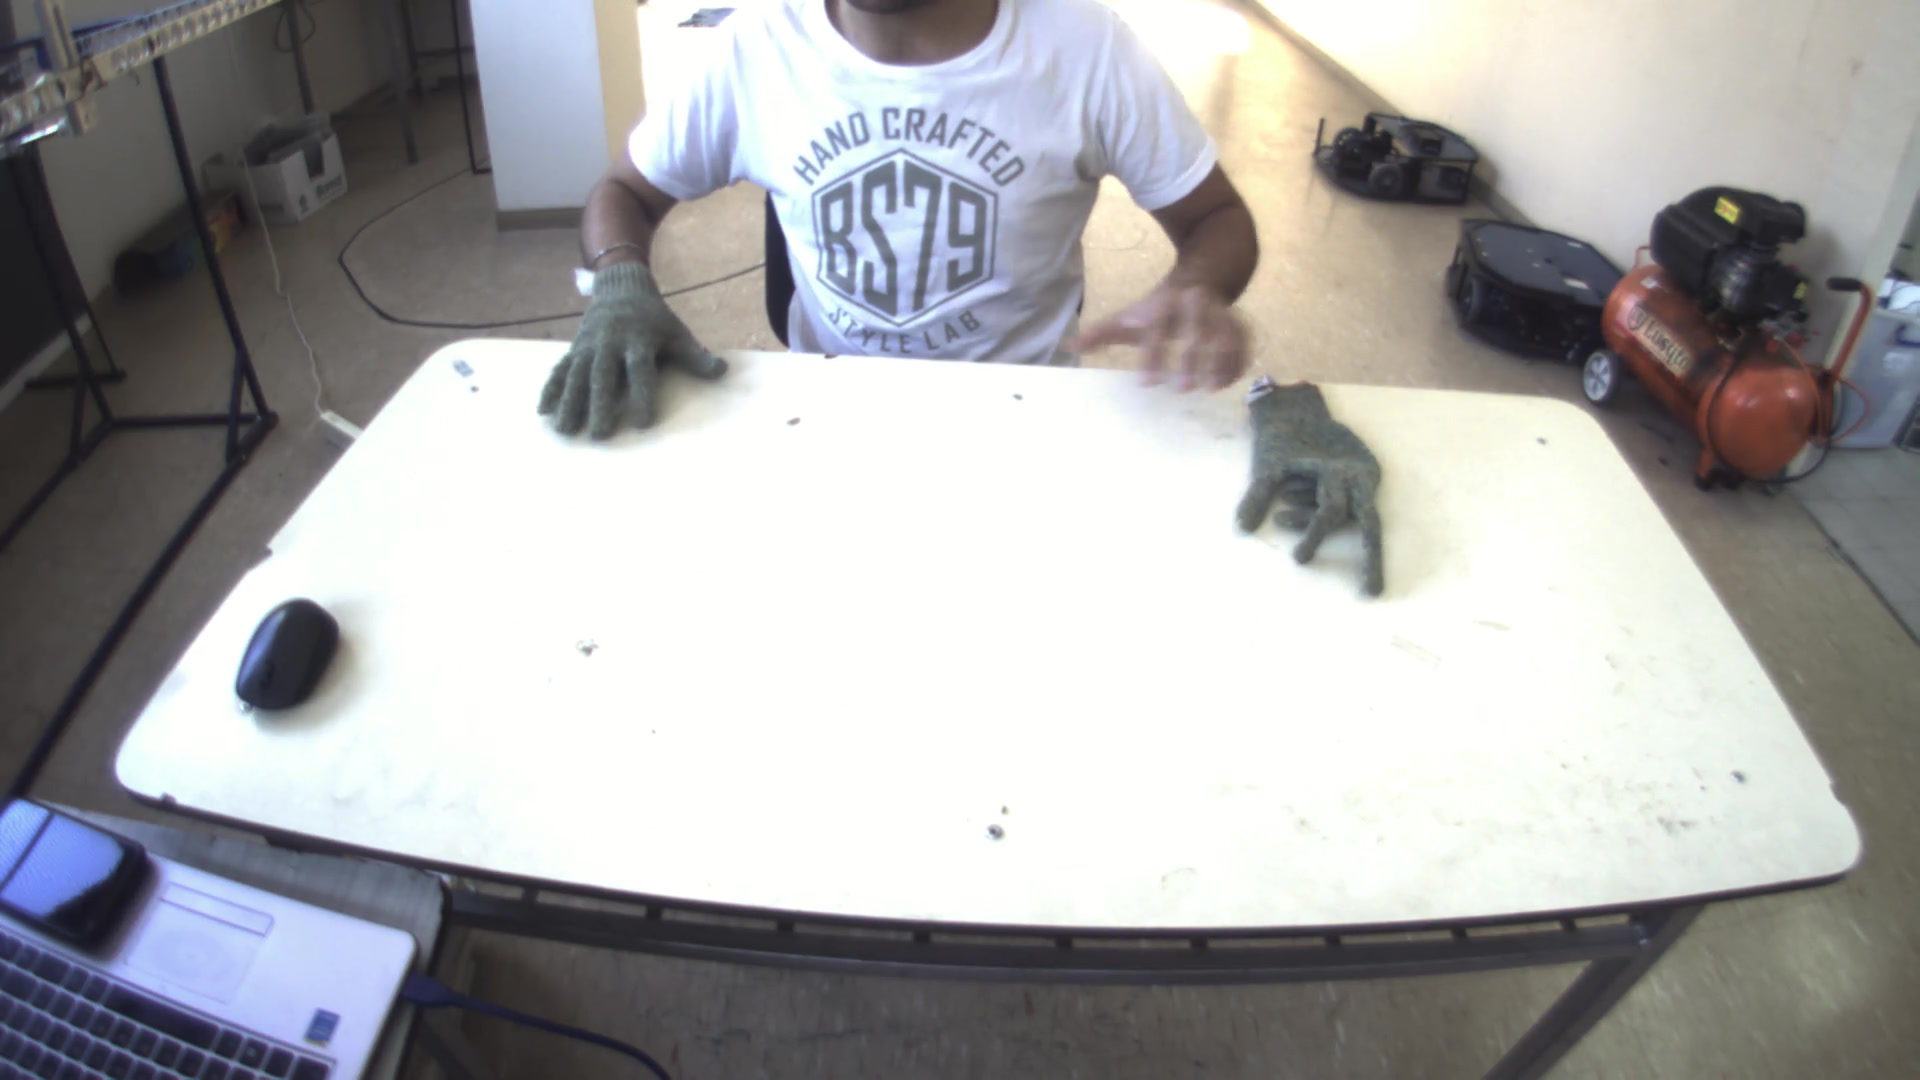hand: (526, 241, 732, 438), (1069, 272, 1274, 402)
